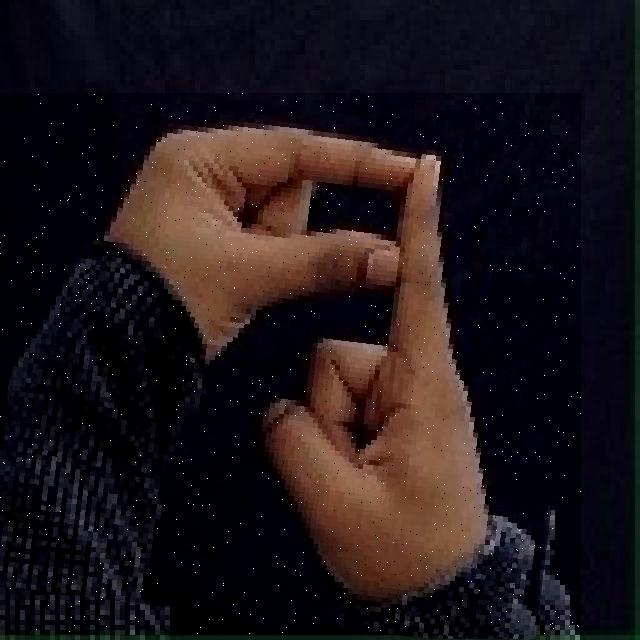P: (0, 93, 581, 636)
